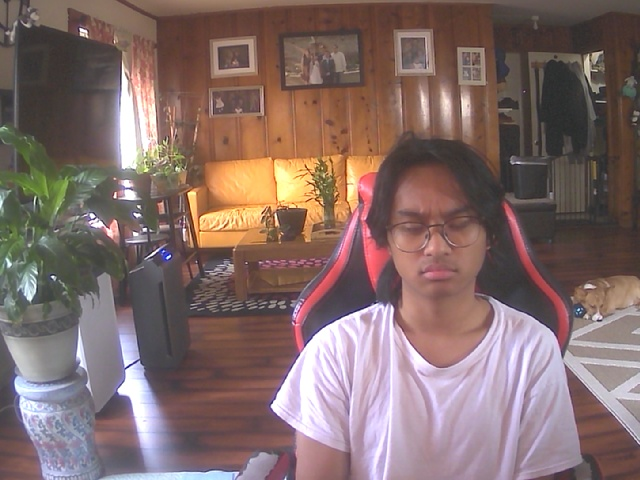anger: (385, 149, 496, 300)
